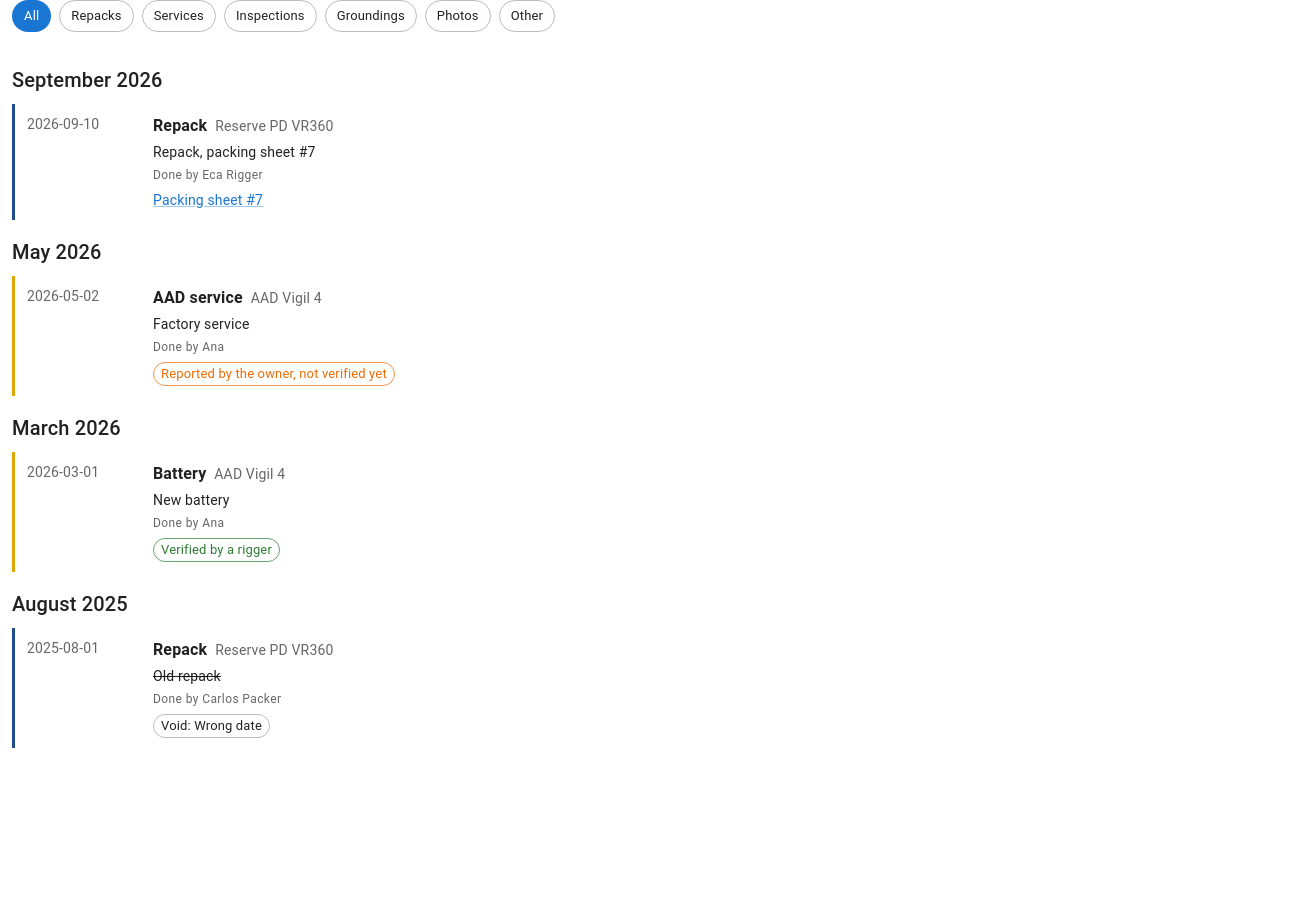
Scenario: RigTimeline › a filter with nothing in it says so
Click the button "Groundings" at (371, 16), box [325,0,417,32]
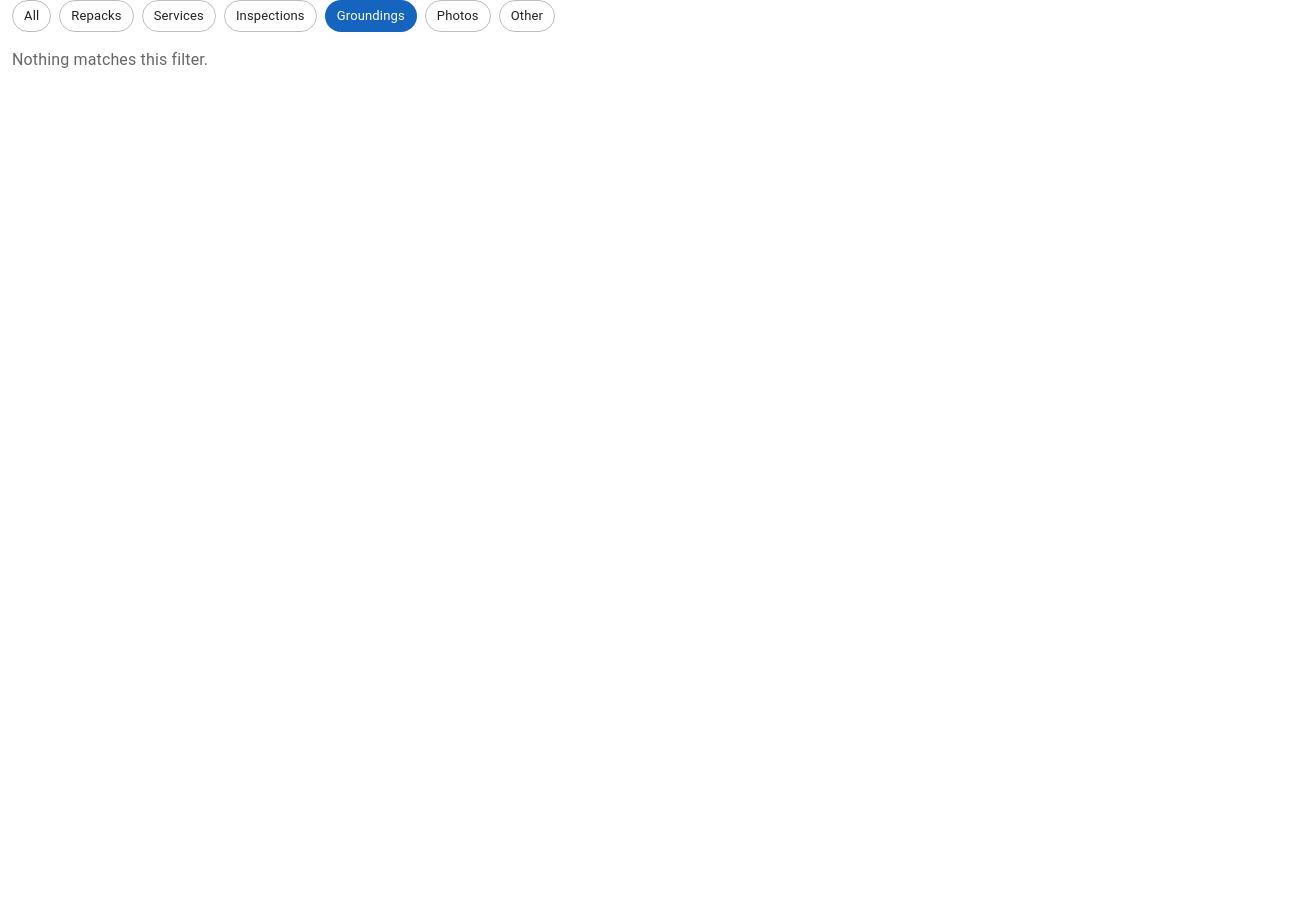
Expected: the text "Nothing matches this filter." is shown, [12,50,208,69]
